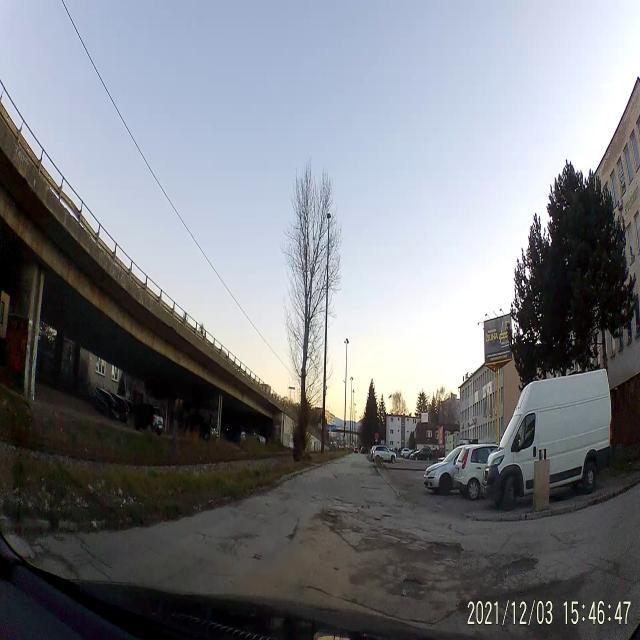Pothole: (492, 558, 540, 588), (430, 538, 464, 562), (399, 568, 422, 601)
